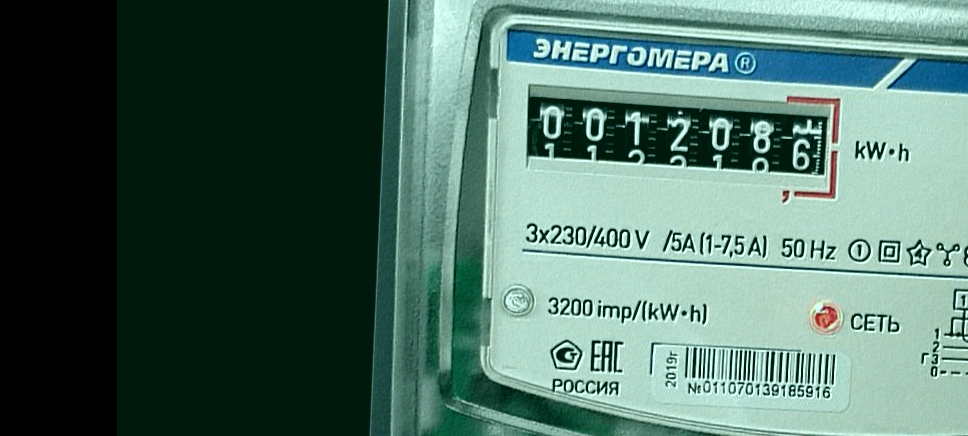0: (539, 101, 567, 141), (583, 105, 609, 143), (708, 114, 734, 151)
1: (625, 108, 648, 148)
2: (667, 114, 695, 154)
6: (789, 135, 814, 172)
8: (749, 117, 776, 155)
screen: (517, 76, 851, 204)
